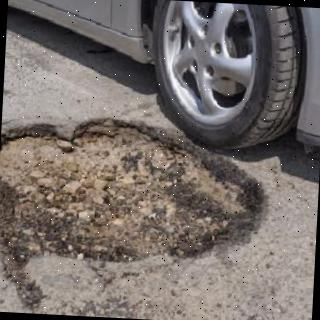pothole: (0, 115, 266, 310)
